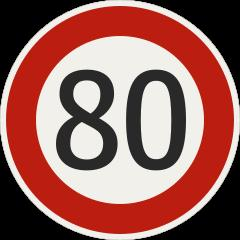Speed Limit -80-: (42, 53, 194, 184)
